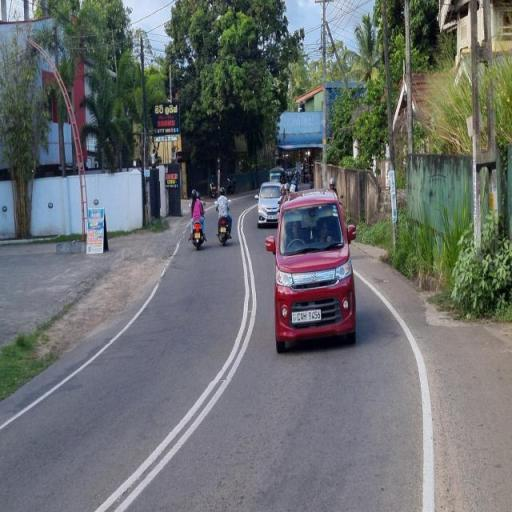double_white_line: (96, 198, 258, 512)
